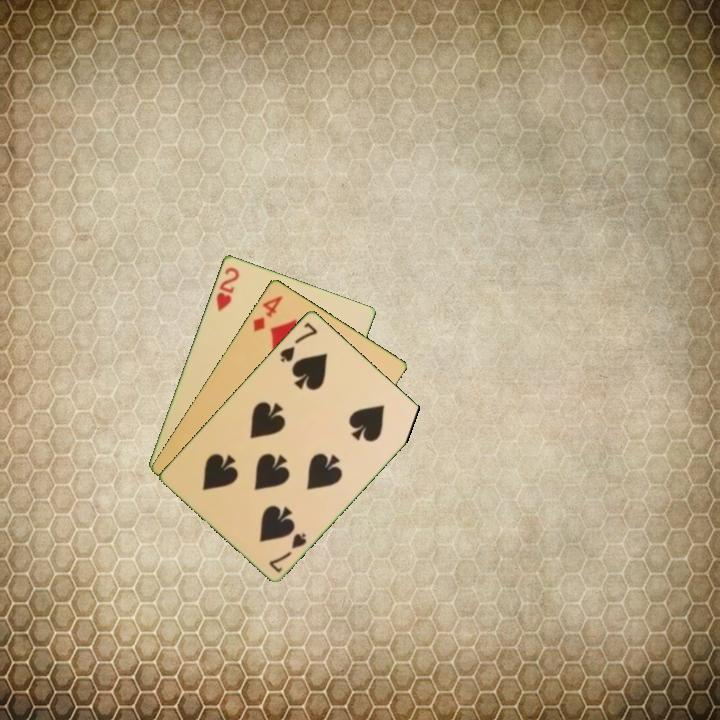2h: (212, 263, 242, 314)
4d: (249, 291, 286, 334)
7s: (265, 529, 310, 575), (276, 318, 320, 365)
